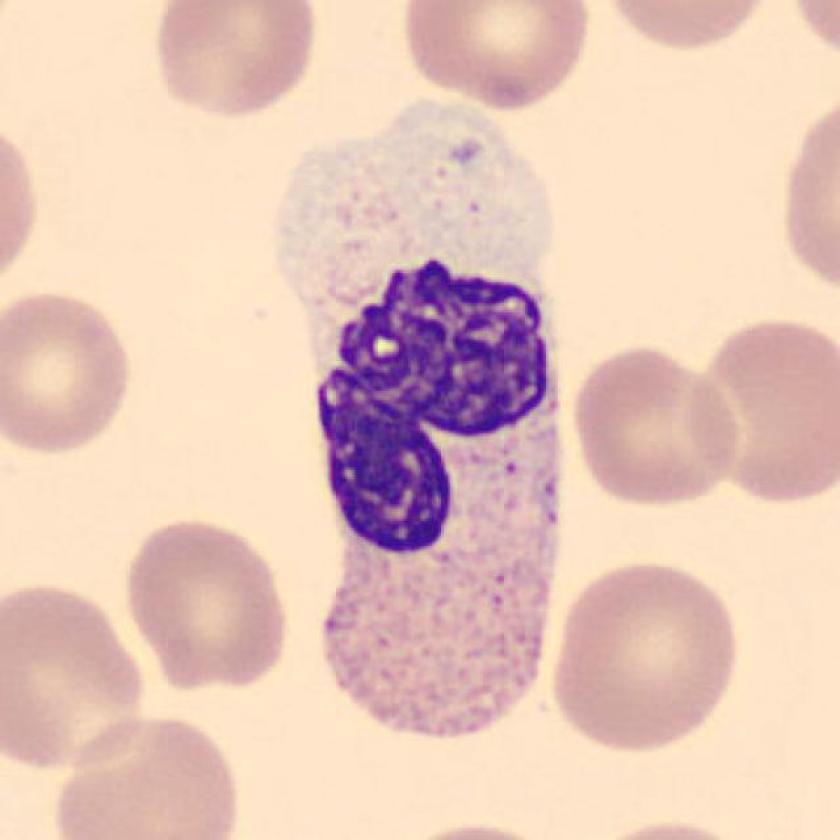neutrophil: (281, 102, 562, 740)
